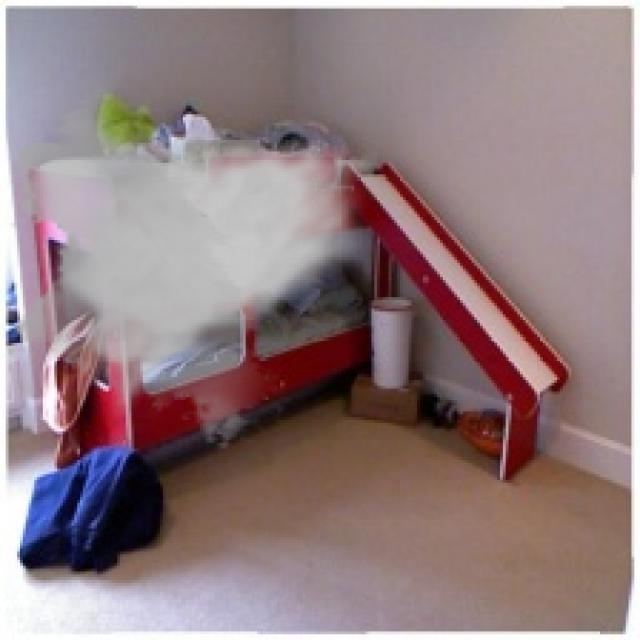Smoke: (6, 97, 377, 452)
